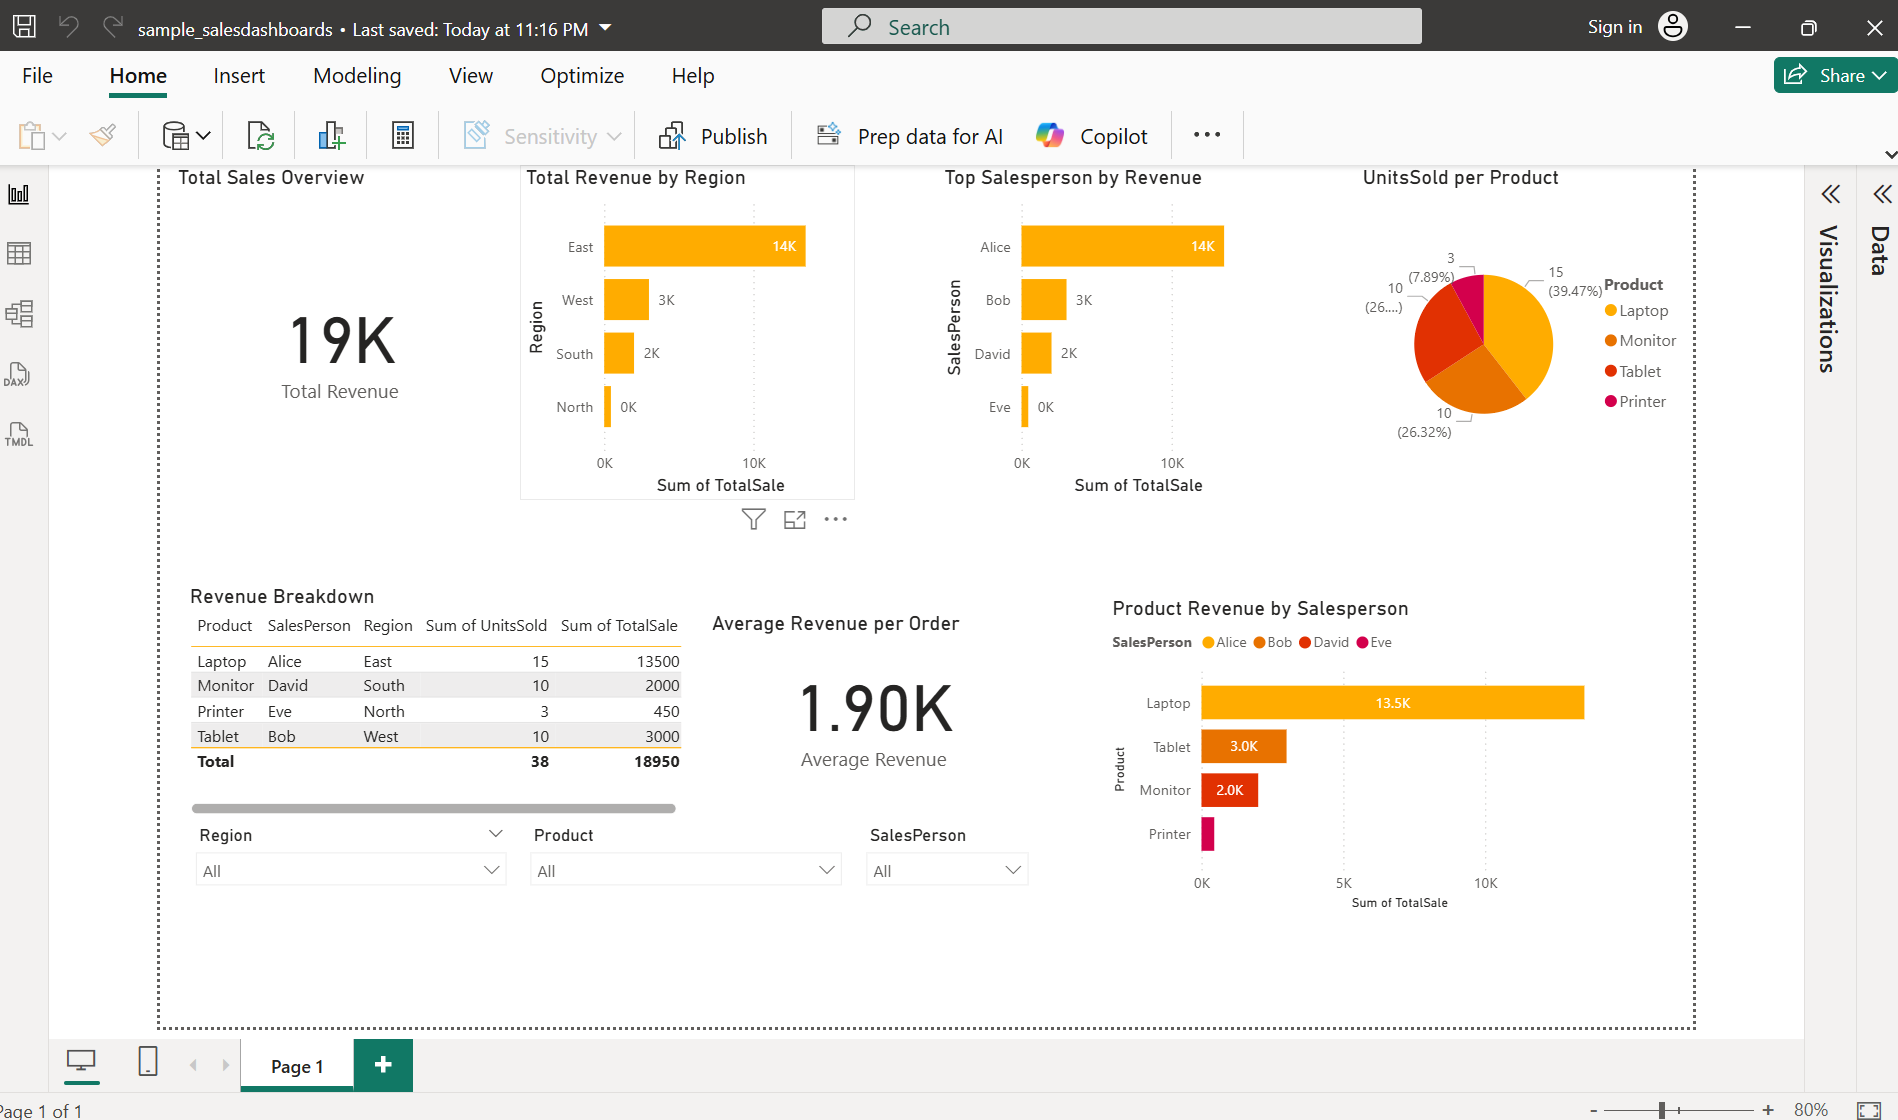

The dashboard page shown, as its layout file describes it:
{"tool":"powerbi","page":{"name":"Page 1","canvas":[1280,720],"ordinal":0},"visuals":[{"type":"card","title":" Total Sales Overview","fields":{"Values":["sample_sales.Total Revenue"]},"box":[10,0,280,280],"z":0},{"type":"barChart","title":"Total Revenue by Region","fields":{"Category":["sample_sales.Region"],"Y":["sample_sales.TotalSale"]},"box":[300.3,0,280,280],"z":1000},{"type":"clusteredBarChart","title":"Top Salesperson by Revenue","fields":{"Category":["sample_sales.SalesPerson"],"Y":["sample_sales.TotalSale"]},"box":[649.9,0,280,280],"z":2000},{"type":"pieChart","title":" UnitsSold per Product","fields":{"Category":["sample_sales.Product"],"Y":["sample_sales.UnitsSold"]},"box":[999.5,0,281.1,279.5],"z":3000},{"type":"card","title":" Average Revenue per Order","fields":{"Values":["sample_sales.Average Revenue"]},"box":[456.3,372.6,279.5,150],"z":4000},{"type":"barChart","title":"Product Revenue by Salesperson","fields":{"Category":["sample_sales.Product"],"Series":["sample_sales.SalesPerson"],"Y":["sample_sales.TotalSale"]},"box":[790.2,360.1,425.7,266.8],"z":5000},{"type":"tableEx","title":"Revenue Breakdown ","fields":{"Values":["sample_sales.Product","sample_sales.SalesPerson","sample_sales.Region","sample_sales.UnitsSold","sample_sales.TotalSale"]},"box":[20.5,349,420,197.4],"z":6000},{"type":"slicer","fields":{"Values":["sample_sales.Region"]},"box":[20.5,546.3,279.5,150],"z":7000},{"type":"slicer","fields":{"Values":["sample_sales.Product"]},"box":[300,546,280,150],"z":8000},{"type":"slicer","fields":{"Values":["sample_sales.SalesPerson"]},"box":[580,546,155,150],"z":9000}]}

Visuals, with their boxes on the page's 1280x720 design canvas (x1, y1, x2, y2). These are canvas units, not pixel positions in the 1898x1120 screenshot, which may show the page scaled, cropped or inside an application window:
" Total Sales Overview" card: region(10, 0, 290, 280)
"Total Revenue by Region" barChart: region(300, 0, 580, 280)
"Top Salesperson by Revenue" clusteredBarChart: region(650, 0, 930, 280)
" UnitsSold per Product" pieChart: region(1000, 0, 1281, 280)
" Average Revenue per Order" card: region(456, 373, 736, 523)
"Product Revenue by Salesperson" barChart: region(790, 360, 1216, 627)
"Revenue Breakdown " tableEx: region(20, 349, 440, 546)
slicer - sample_sales.Region: region(20, 546, 300, 696)
slicer - sample_sales.Product: region(300, 546, 580, 696)
slicer - sample_sales.SalesPerson: region(580, 546, 735, 696)
